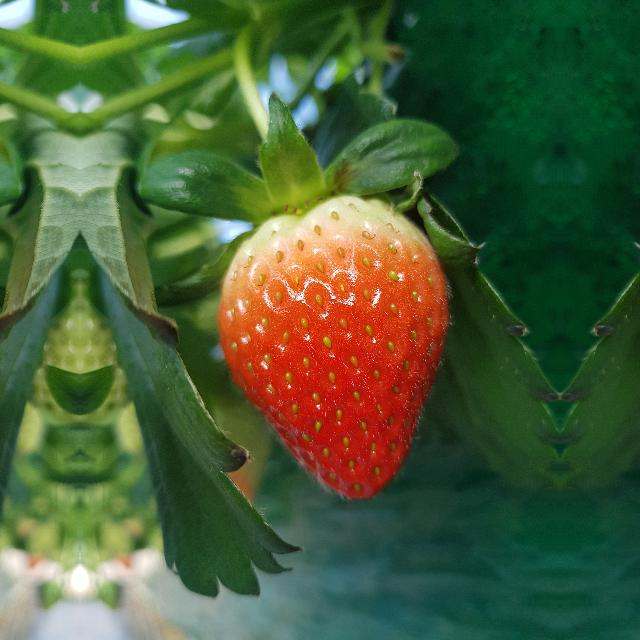Health_100: (214, 197, 452, 501)
